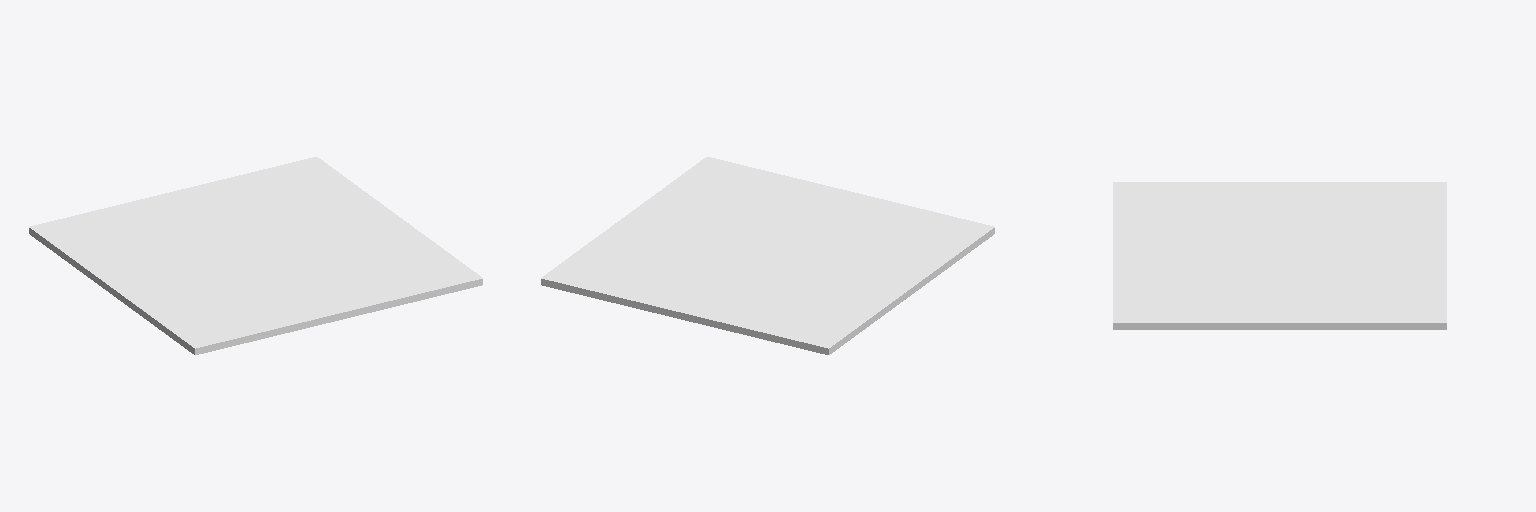
Rendered from board.obj.
3 views of the same model, side by side, from view 1: azimuth 30°, elevation 25°; view 2: azimuth 150°, elevation 25°; view 3: azimuth 270°, elevation 25° (orthographic).
Parts seen in each view (by area): view 1: Plane.002_Plane.001, Plane.001_Plane.002; view 2: Plane.001_Plane.002, Plane.002_Plane.001; view 3: Plane.001_Plane.002, Plane.002_Plane.001.
Boxes of the visible parts, x1,y1,x2,y2 form: Plane.002_Plane.001: [29, 165, 482, 346]; Plane.001_Plane.002: [49, 157, 461, 354]; Plane.001_Plane.002: [541, 165, 994, 346]; Plane.002_Plane.001: [562, 157, 974, 354]; Plane.001_Plane.002: [1113, 182, 1446, 329]; Plane.002_Plane.001: [1113, 182, 1446, 329].
Bounding box in the file's own units: 16 × 0.3639 × 16.